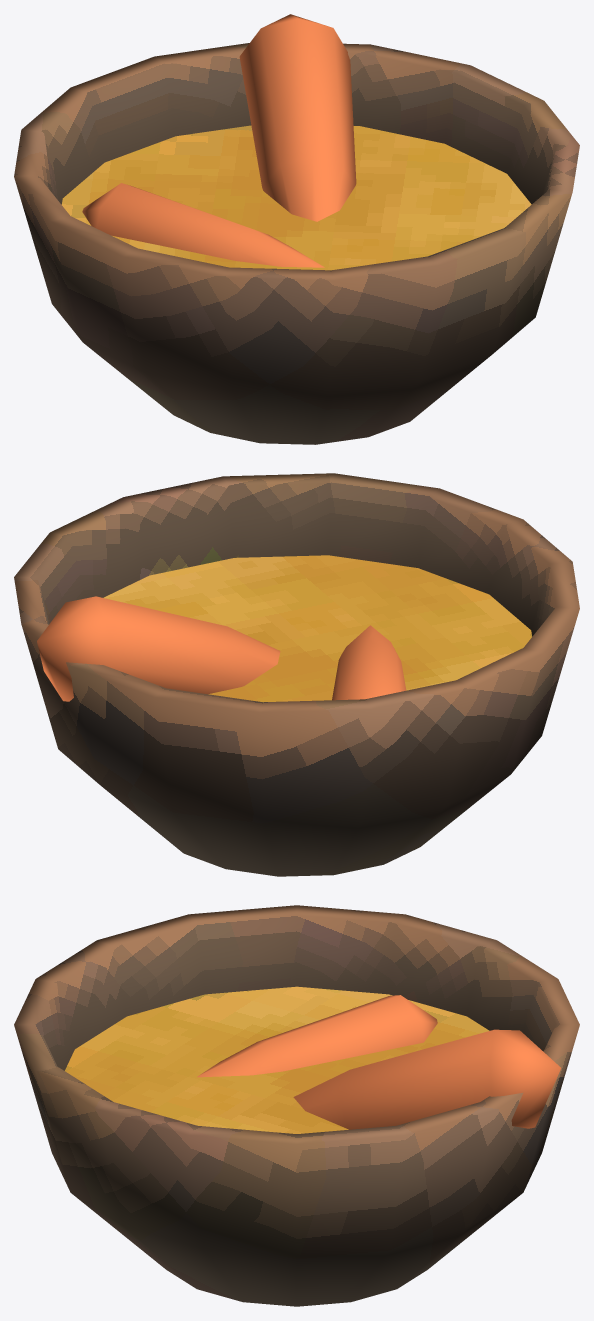
The model's file is CarrotSoup.fbx.
3 views of the same model, one above another, from view 1: azimuth 30°, elevation 25°; view 2: azimuth 150°, elevation 25°; view 3: azimuth 270°, elevation 25° (orthographic).
Visible parts, largest first — view 1: attach, carrot (1), carrot; view 2: attach, carrot (1), carrot; view 3: attach, carrot (1), carrot.
Part boxes in pixels (x1,y1,x2,y2): attach: [14, 43, 579, 444]; carrot (1): [239, 14, 356, 221]; carrot: [82, 183, 324, 267]; attach: [14, 473, 579, 876]; carrot (1): [37, 596, 280, 701]; carrot: [332, 625, 406, 700]; attach: [14, 905, 579, 1306]; carrot (1): [293, 1029, 561, 1129]; carrot: [197, 995, 437, 1077].
Bounding box in the file's own units: 0.3733 × 0.1938 × 0.3733.
Materials: 2 (1 with a texture image).
